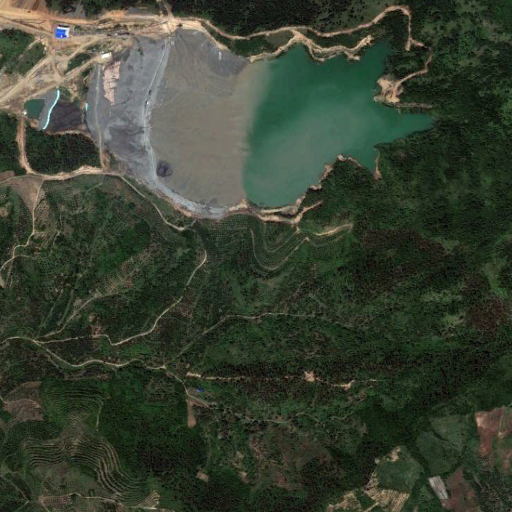tp: (87, 28, 430, 221)
